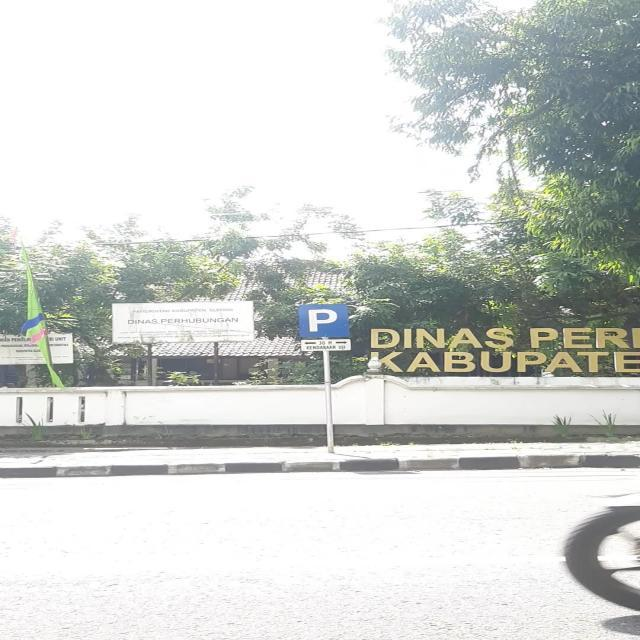Tempat Parkir: (299, 304, 349, 338)
